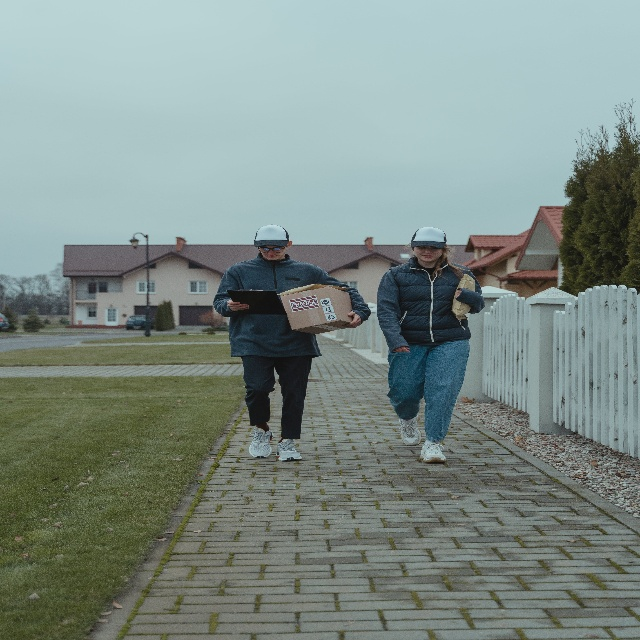Gafas: (257, 244, 286, 254)
Sin_guantes: (342, 309, 362, 328), (226, 298, 250, 312), (392, 345, 410, 354), (455, 287, 462, 298)
